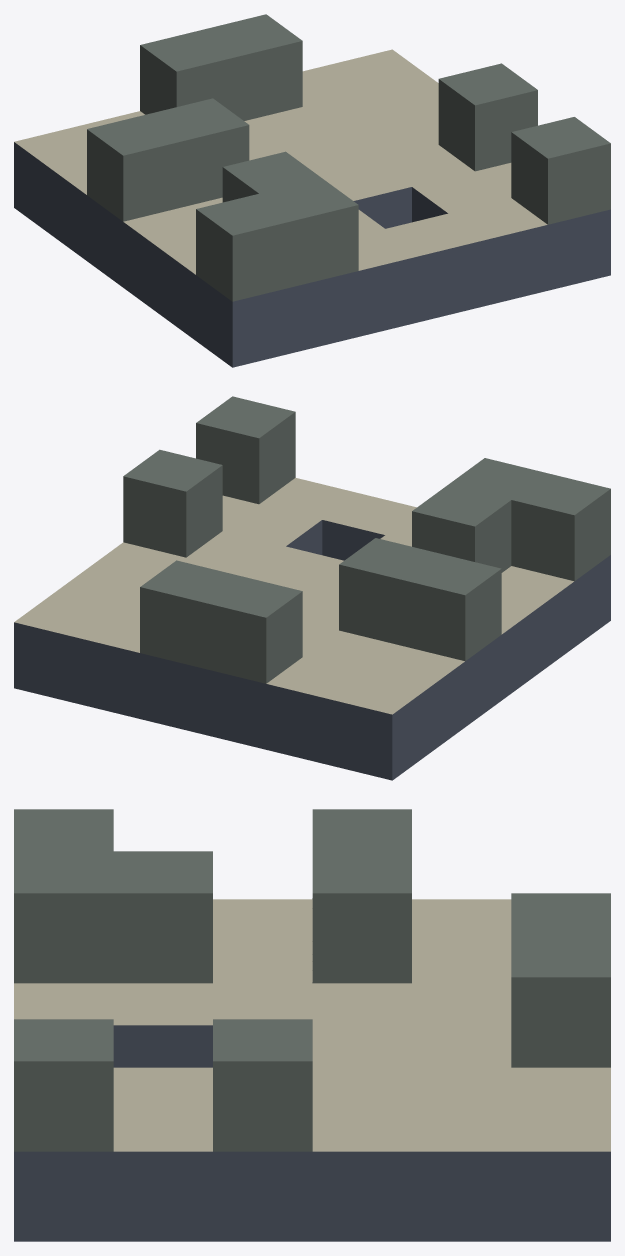
The picture shows the model from 3 angles, top to bottom: view 1: azimuth 30°, elevation 25°; view 2: azimuth 150°, elevation 25°; view 3: azimuth 270°, elevation 25°; orthographic projection. The views are drawn at different scales.
Parts seen in each view (by area): view 1: 5.3; view 2: 5.3; view 3: 5.3.
Boxes of the visible parts, bbox=[...] form: 5.3: bbox=[14, 14, 610, 367]; 5.3: bbox=[14, 396, 610, 780]; 5.3: bbox=[14, 809, 610, 1241].
Size of the model in its own units: 600 by 200 by 600.
